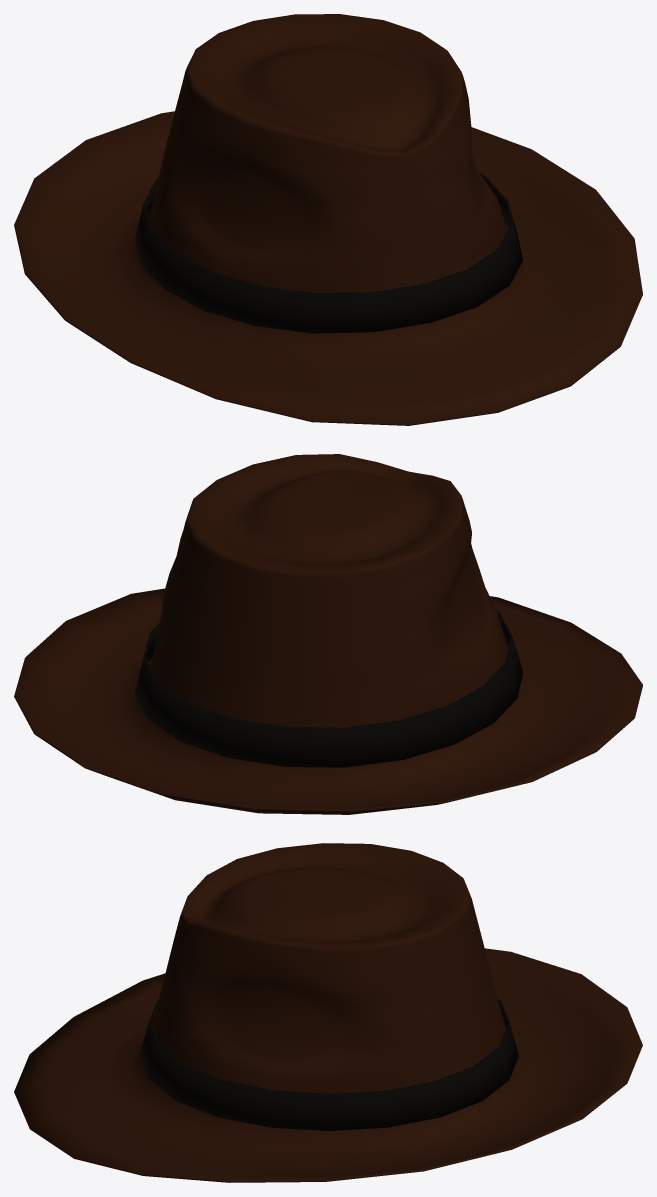
Rendered from fedora.fbx.
3 renders of one model, top to bottom at view 1: azimuth 30°, elevation 25°; view 2: azimuth 150°, elevation 25°; view 3: azimuth 270°, elevation 25°, orthographic. The views are drawn at different scales.
Parts seen in each view (by area): view 1: Cylinder, Cylinder.001; view 2: Cylinder, Cylinder.001; view 3: Cylinder, Cylinder.001.
Boxes of the visible parts, left/top/right/bottom form: Cylinder: left=14, top=14, right=642, bottom=425; Cylinder.001: left=135, top=172, right=523, bottom=333; Cylinder: left=14, top=454, right=642, bottom=814; Cylinder.001: left=135, top=610, right=523, bottom=767; Cylinder: left=14, top=843, right=642, bottom=1182; Cylinder.001: left=140, top=998, right=518, bottom=1130.
Size of the model in its own units: 242 by 94.13 by 267.
